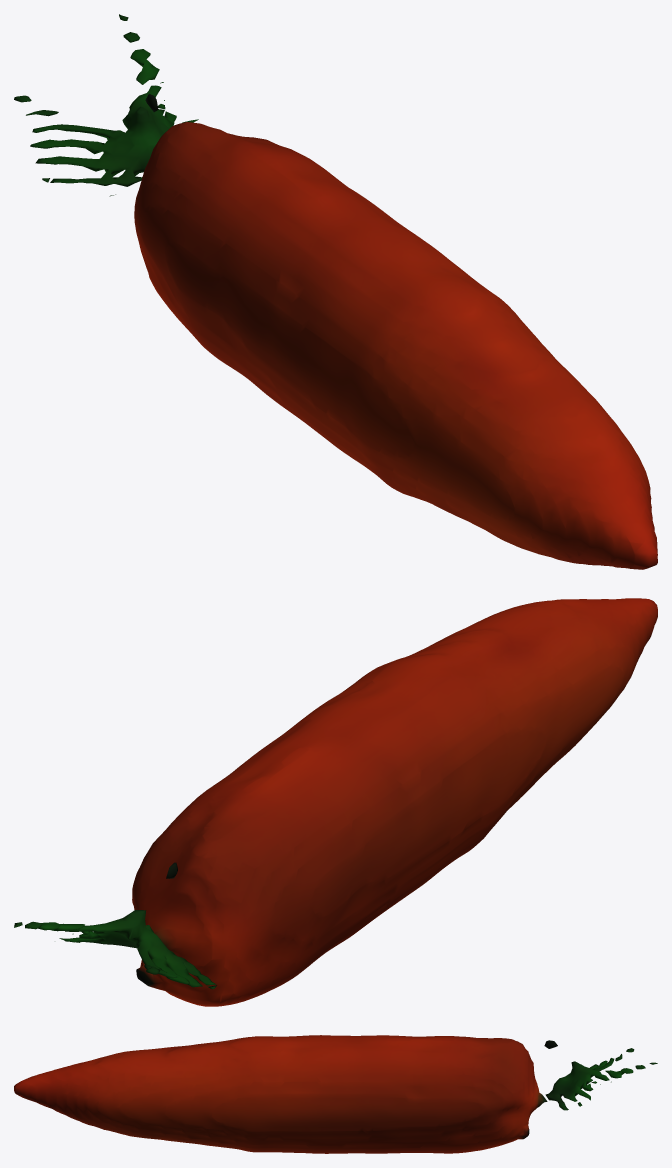
3 renders of one model, top to bottom at view 1: azimuth 30°, elevation 25°; view 2: azimuth 150°, elevation 25°; view 3: azimuth 270°, elevation 25°, orthographic. The views are drawn at different scales.
Visible parts, largest first — view 1: plyFile; view 2: plyFile; view 3: plyFile.
Part boxes in pixels (left/top/right/bottom): plyFile: left=14, top=14, right=657, bottom=569; plyFile: left=14, top=598, right=657, bottom=1006; plyFile: left=14, top=1035, right=657, bottom=1153.
Bounding box in the file's own units: 32.5 × 36.16 × 193.
